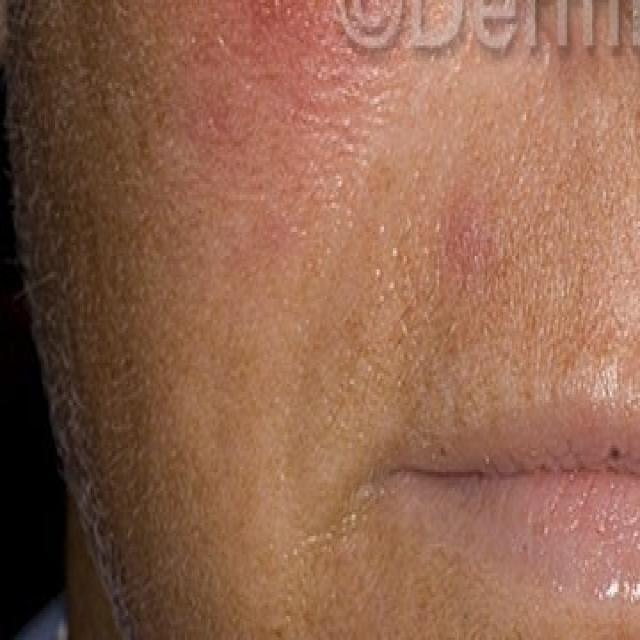Rosacea: (203, 0, 411, 256), (424, 177, 496, 301)
